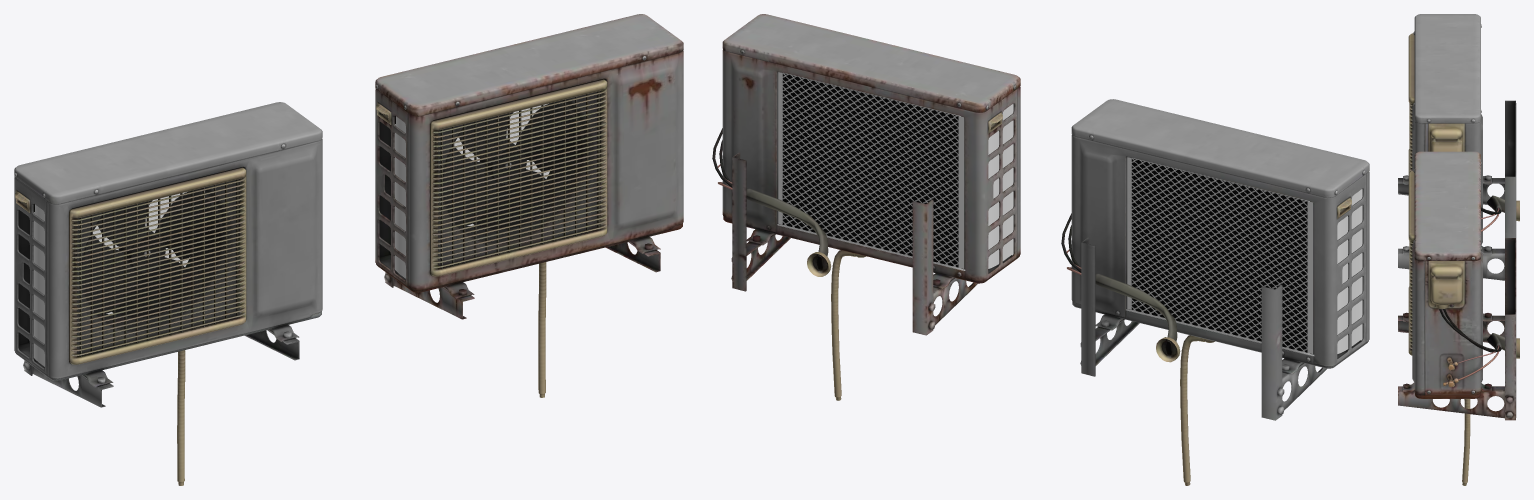
The model's file is aircon-unit.glb.
3 views of the same model, side by side, from view 1: azimuth 30°, elevation 25°; view 2: azimuth 150°, elevation 25°; view 3: azimuth 270°, elevation 25° (orthographic). The views are drawn at different scales.
Parts seen in each view (by area): view 1: exterior_aircon_unit_rusted, exterior_aircon_unit; view 2: exterior_aircon_unit, exterior_aircon_unit_rusted; view 3: exterior_aircon_unit_rusted, exterior_aircon_unit.
Part boxes in pixels (x1,y1,x2,y2): exterior_aircon_unit_rusted: (375,14,683,397); exterior_aircon_unit: (14,102,322,485); exterior_aircon_unit: (1061,99,1369,485); exterior_aircon_unit_rusted: (712,14,1020,400); exterior_aircon_unit_rusted: (1398,151,1519,485); exterior_aircon_unit: (1398,14,1519,280).
Size of the model in its own units: 1.8 by 0.9279 by 0.3742.
Materials: 4 (4 with a texture image).
